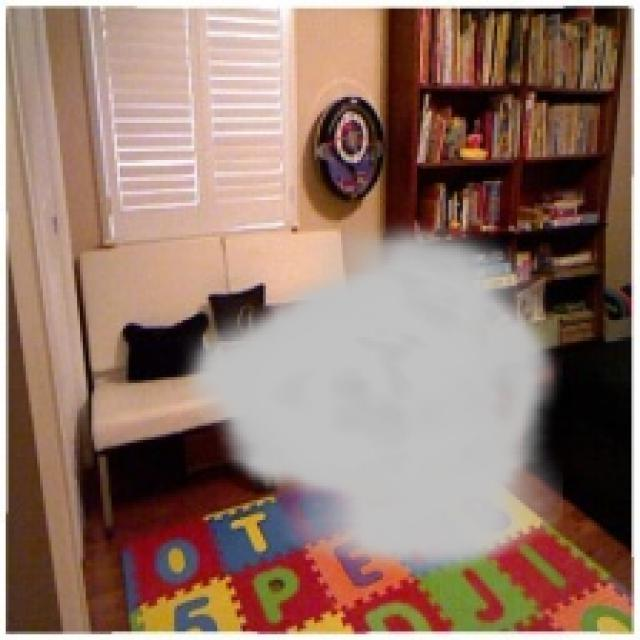smoke: (177, 214, 563, 577)
